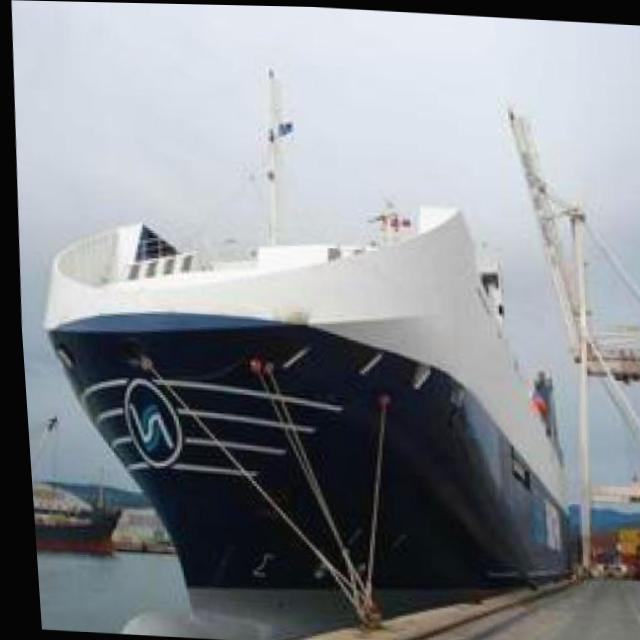ship2: (38, 60, 575, 593)
